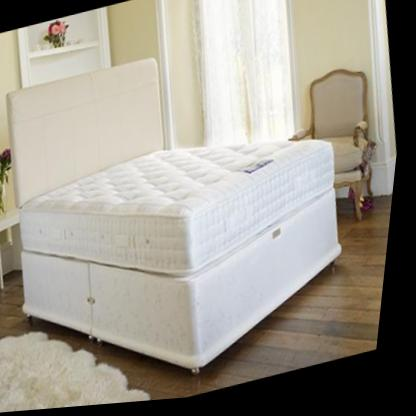Bed: (0, 11, 384, 415)
Chair: (273, 64, 396, 245)
